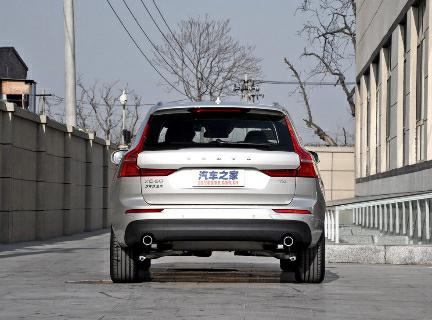沃尔沃-XC60: (104, 100, 330, 289)
